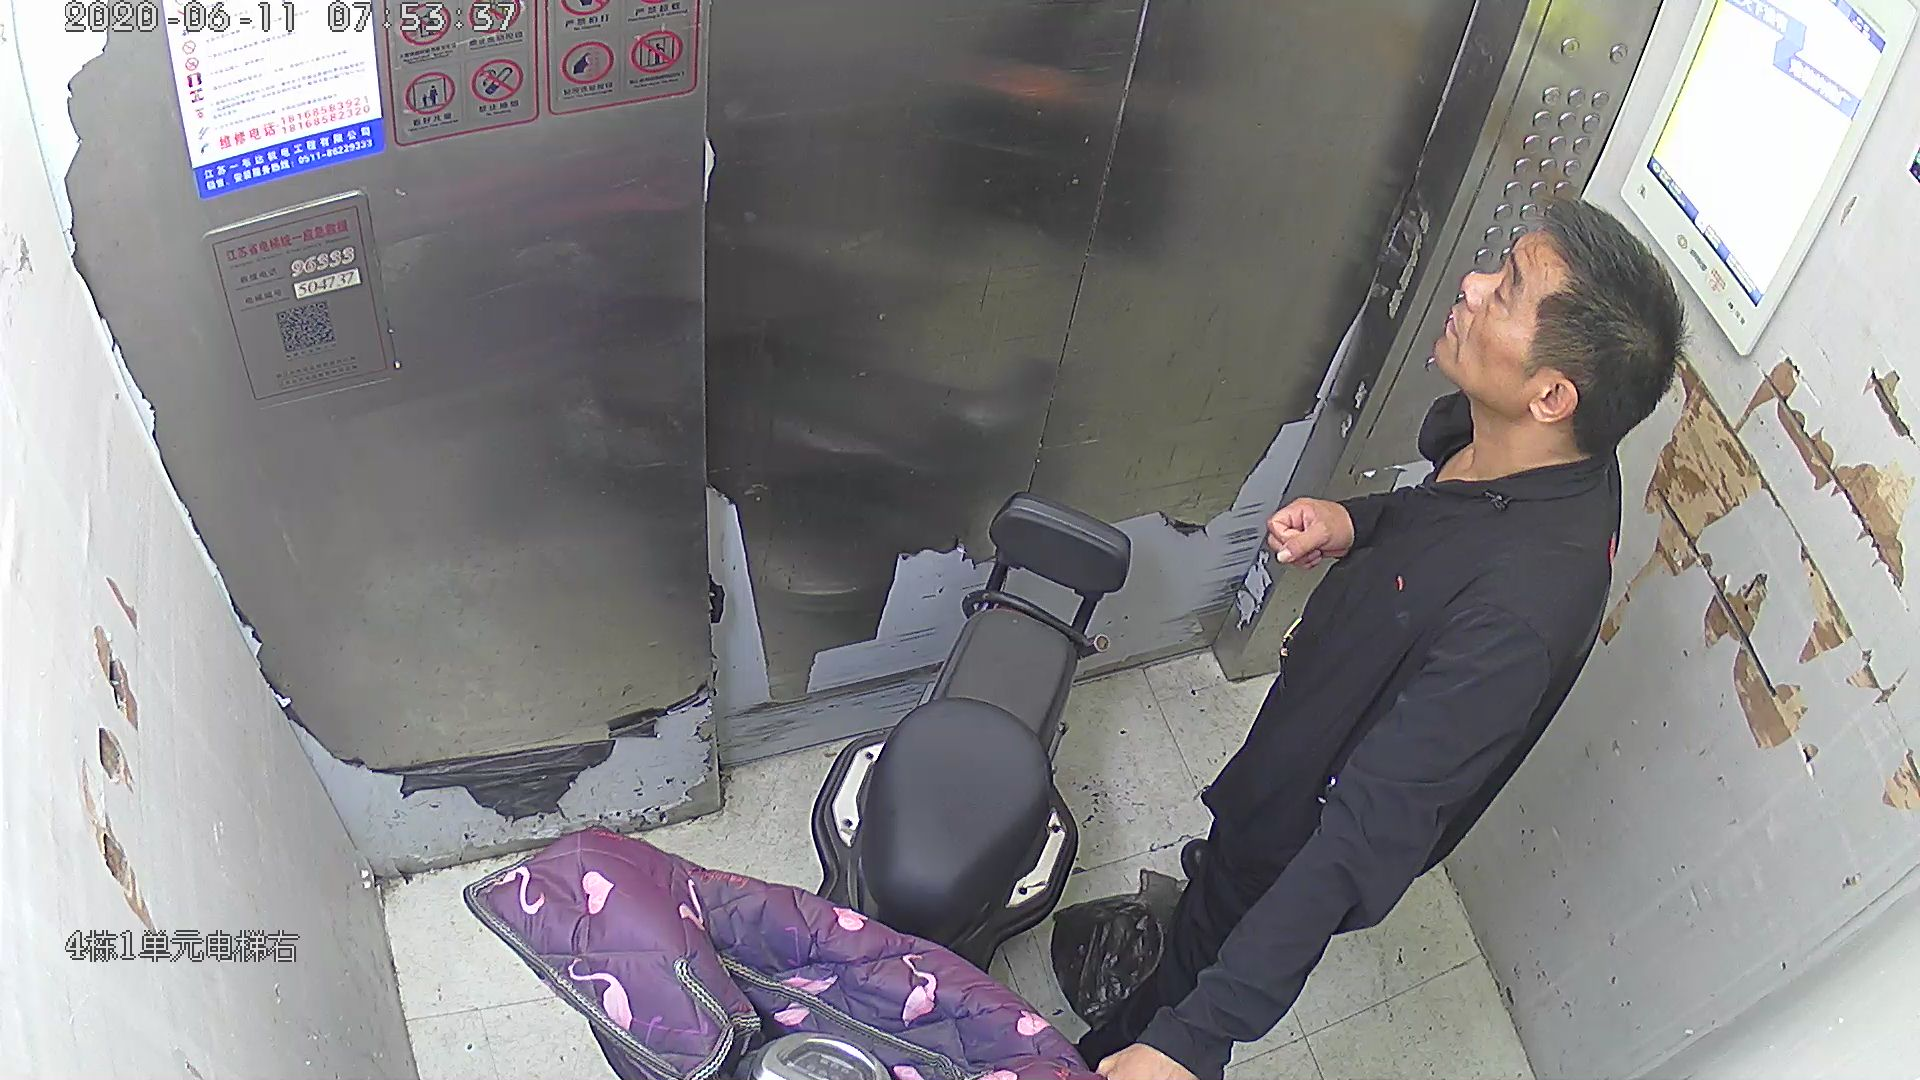Electric-bicycle: (475, 493, 1131, 1080)
